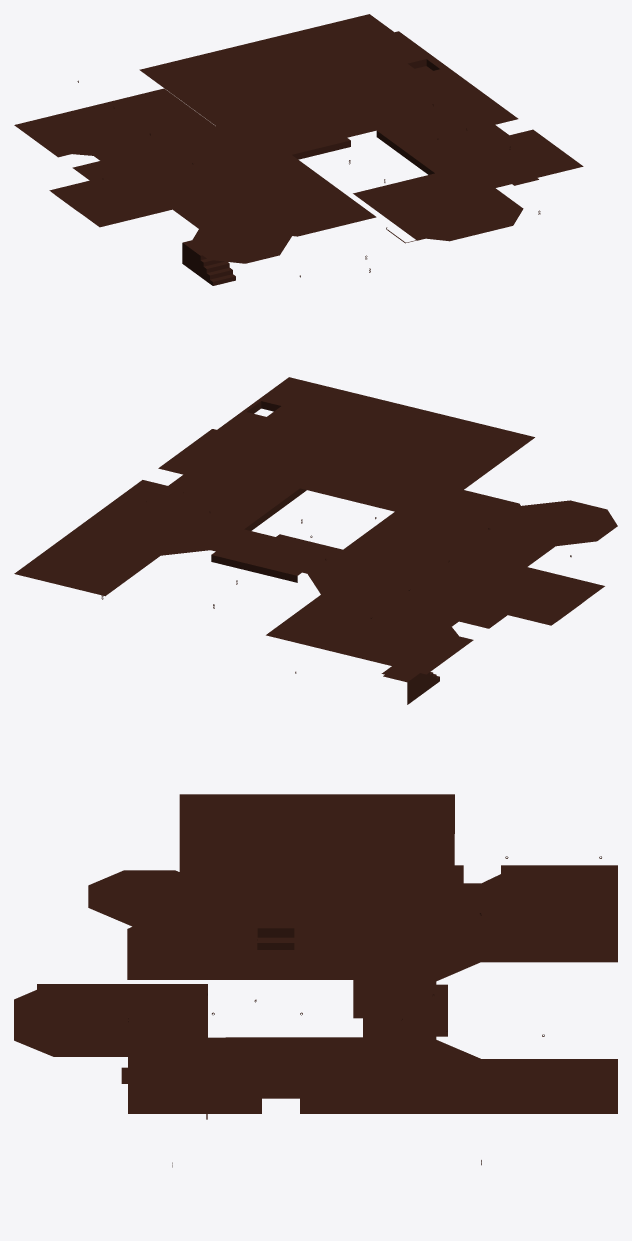
File: Subsurfed_Porch.015.obj
3 views of the same model, one above another, from view 1: azimuth 30°, elevation 25°; view 2: azimuth 150°, elevation 25°; view 3: azimuth 270°, elevation 25° (orthographic). The views are drawn at different scales.
Parts seen in each view (by area): view 1: Subsurfed_Porch.015_Cube.036; view 2: Subsurfed_Porch.015_Cube.036; view 3: Subsurfed_Porch.015_Cube.036.
Part boxes in pixels (x1,y1,x2,y2): Subsurfed_Porch.015_Cube.036: (14,14,583,285); Subsurfed_Porch.015_Cube.036: (14,377,617,704); Subsurfed_Porch.015_Cube.036: (14,794,617,1167).
Size of the model in its own units: 17.39 by 7.46 by 16.13.
